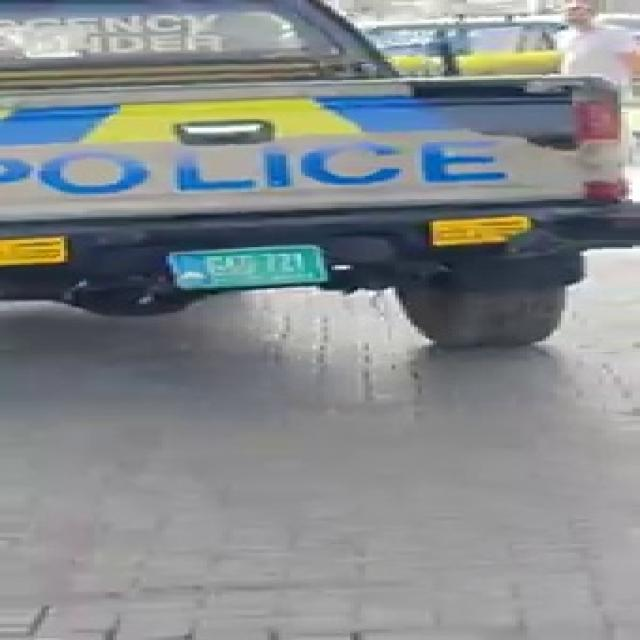police: (0, 12, 640, 376)
